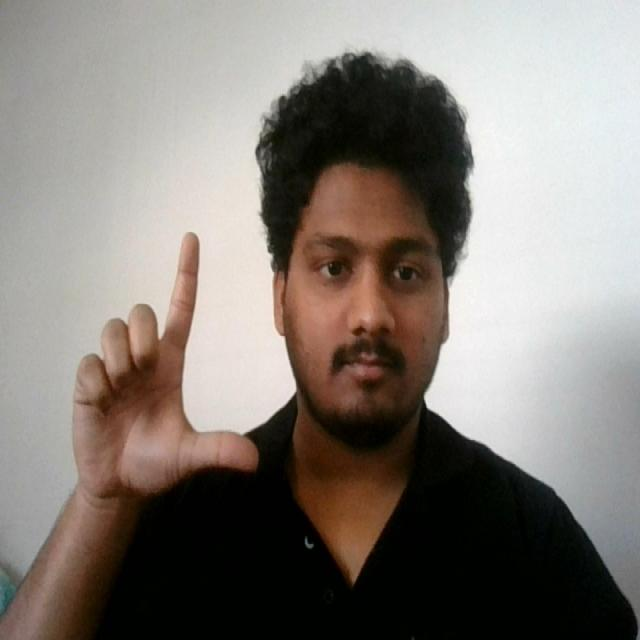IloveYou: (62, 219, 262, 511)
